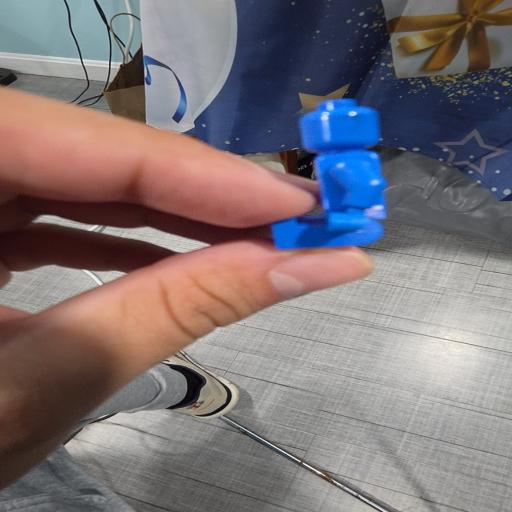Blue: (273, 99, 385, 249)
